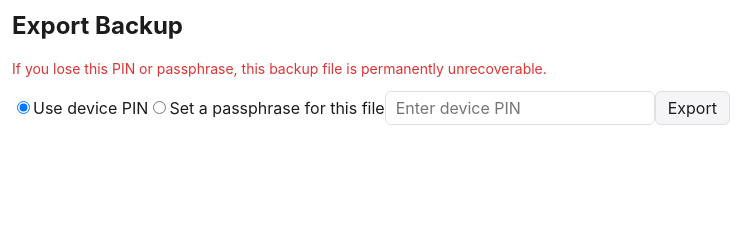
Test: ExportSettings › rejects an incorrect device PIN when the PIN option is chosen
Type "0000" into the password field with placeholder "Enter device PIN".
click(520, 108); type("0000")  # box [385, 91, 655, 125]
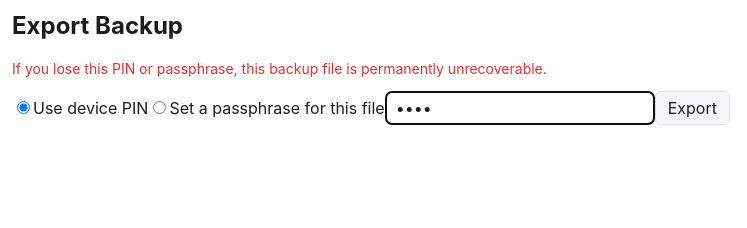
Click the button "Export".
click(692, 108)  # box [655, 91, 730, 125]
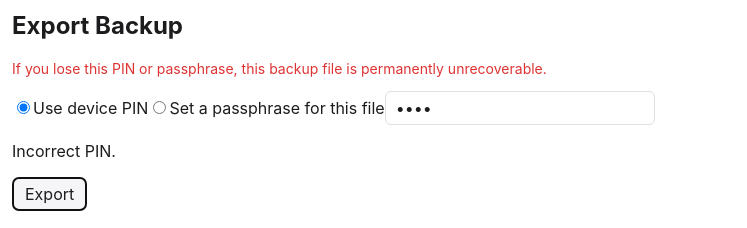
expect the text "Incorrect PIN." is shown: met, box [12, 141, 116, 161]
